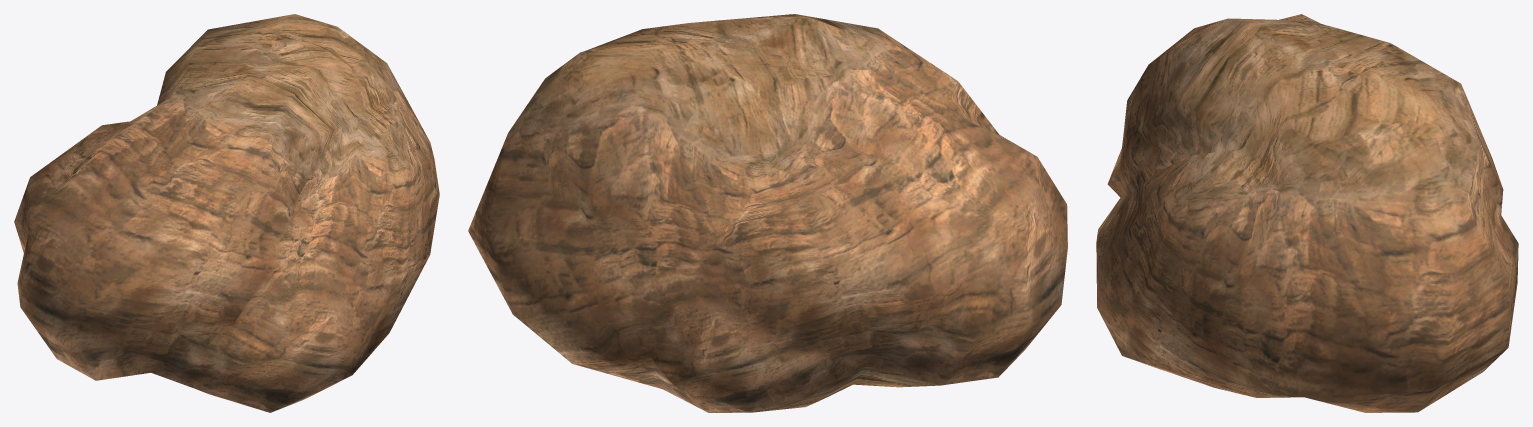
The model's file is rock_tatt_bensmesa_boulder_a5_l0.fbx.
The picture shows the model from 3 angles, left to right: view 1: azimuth 30°, elevation 25°; view 2: azimuth 150°, elevation 25°; view 3: azimuth 270°, elevation 25°; orthographic projection. The views are drawn at different scales.
Visible parts, largest first — view 1: mesh_node; view 2: mesh_node; view 3: mesh_node.
Boxes of the visible parts, box(x1,y1,x2,y2) form: mesh_node: box(14, 14, 439, 412); mesh_node: box(468, 14, 1067, 412); mesh_node: box(1096, 14, 1518, 412).
Bounding box in the file's own units: 3.72 × 2.53 × 2.83.
